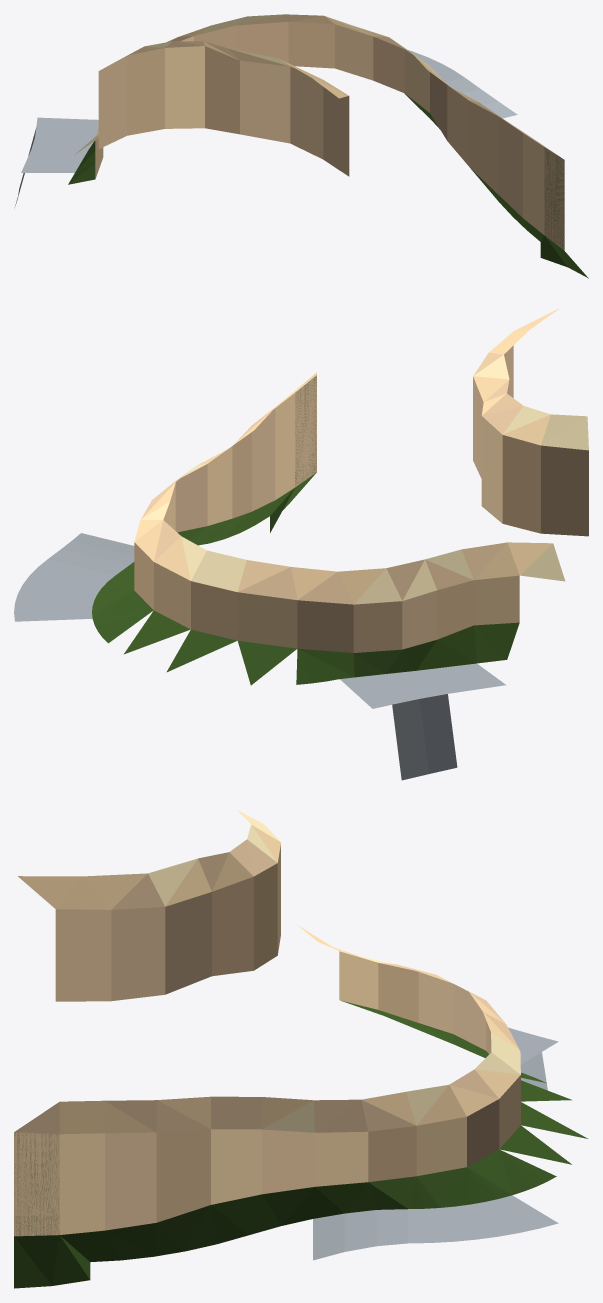
3 renders of one model, top to bottom at view 1: azimuth 30°, elevation 25°; view 2: azimuth 150°, elevation 25°; view 3: azimuth 270°, elevation 25°, orthographic. The views are drawn at different scales.
Visible parts, largest first — view 1: O19560; view 2: O19560; view 3: O19560.
Boxes of the visible parts, <box> form: O19560: <box>14,14,588,278</box>; O19560: <box>14,308,588,780</box>; O19560: <box>14,810,587,1288</box>.
Size of the model in its own units: 147 by 76 by 145.
